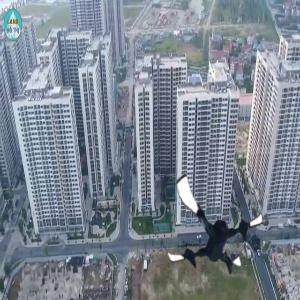drone: (155, 168, 270, 283)
